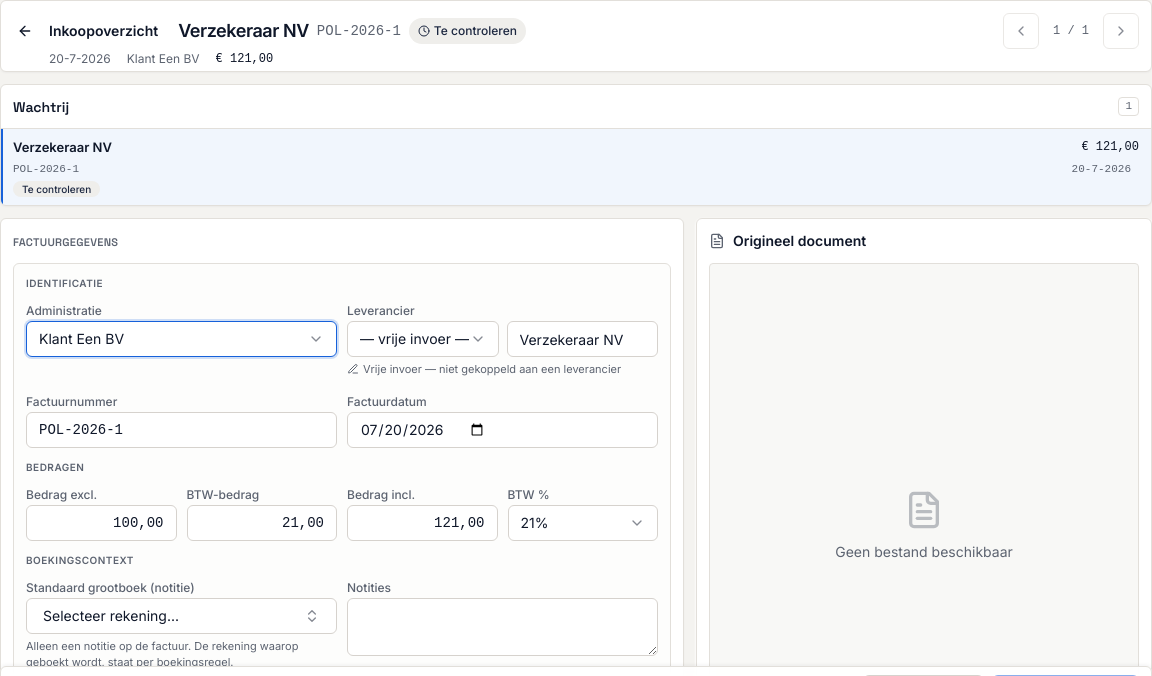
D-02 — administratie wijzigen vraagt een expliciete, bevestigde keuze › een andere administratie kiezen vraagt bevestiging; annuleren laat alles staan
The width and height of the screenshot is (1152, 676).
Later steps or results of the test are not shown.
Expected: the field named "Leveranciersnaam" is shown, [506,321,658,357]
Press ArrowDown in the dropdown named "Administratie", box [26,321,337,357]
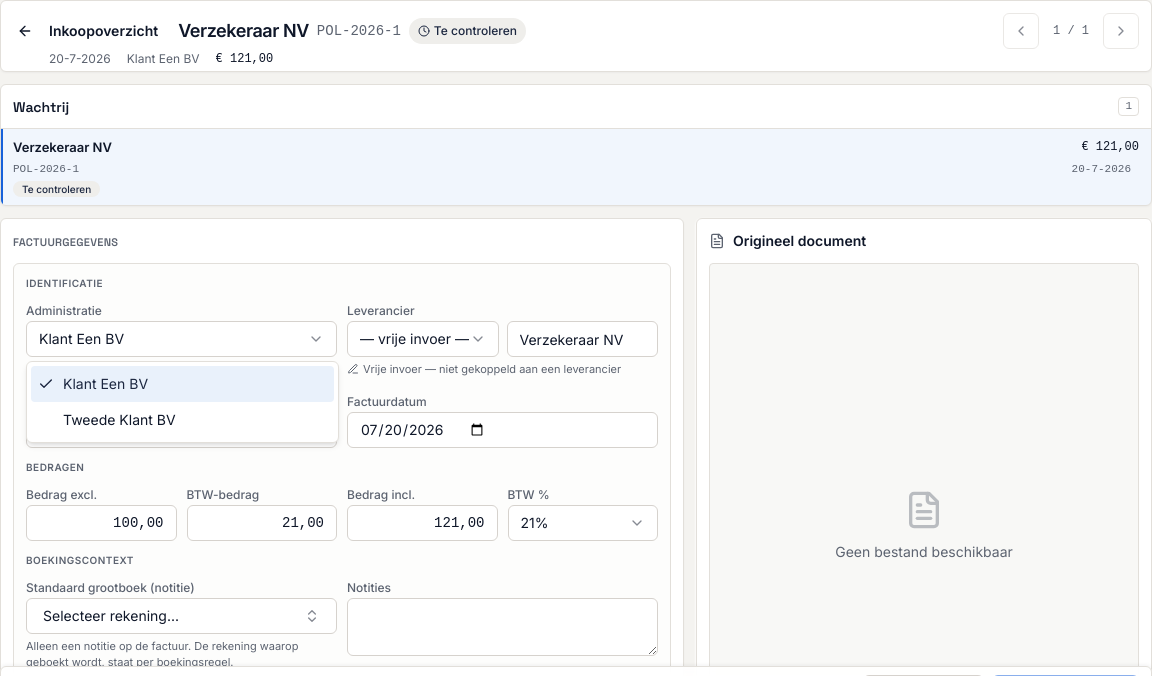
Click the option "Tweede Klant BV".
click(119, 420)  # box [63,411,176,428]
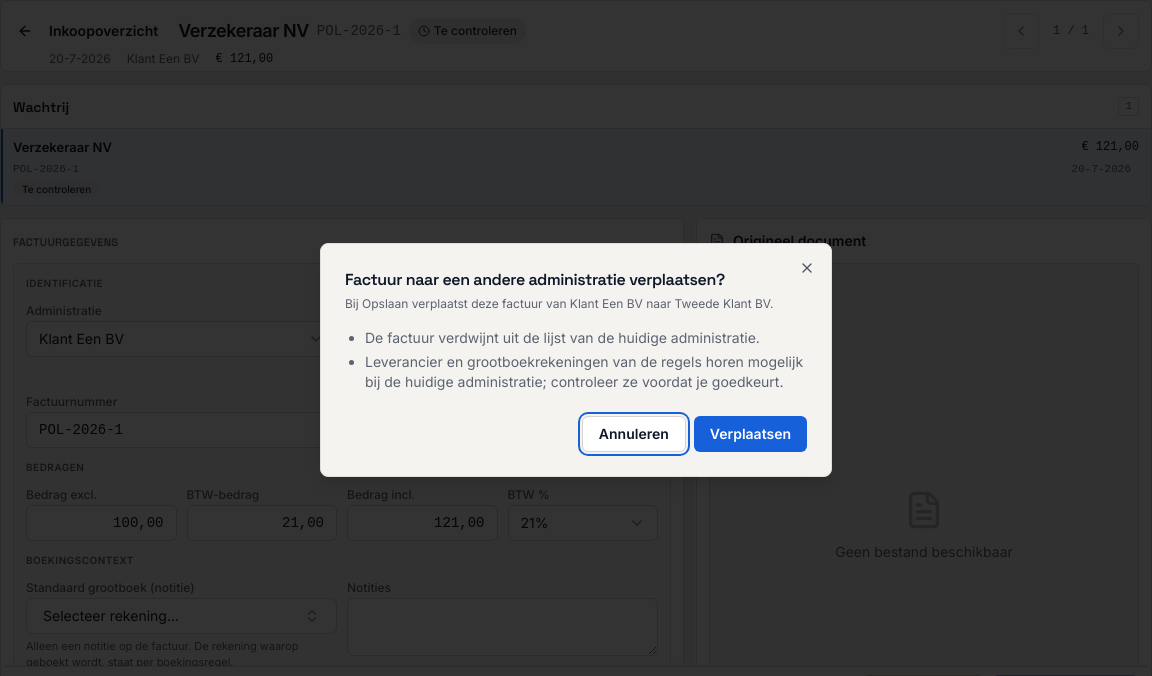
Result: the dialog with test id "client-move-dialog" shows "Klant Een BV" at [345,296,774,311]
Result: the dialog with test id "client-move-dialog" shows "Tweede Klant BV" at [345,296,774,311]
Click the button "Annuleren".
click(634, 434)  # box [582,416,686,452]
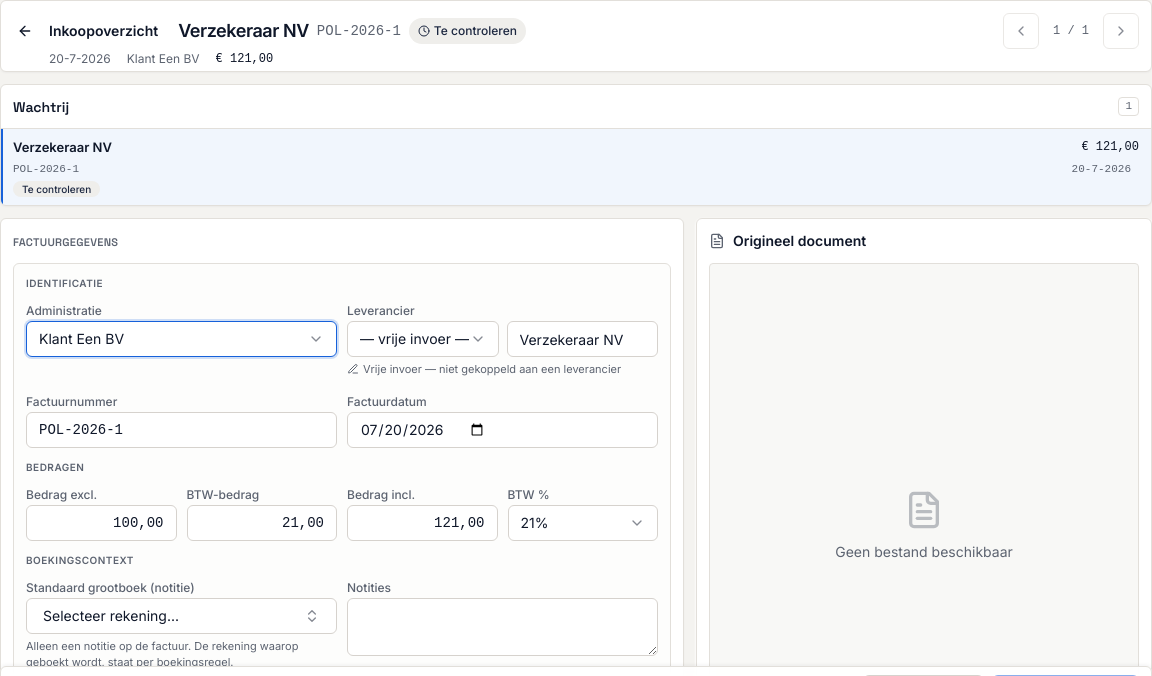
Expected: the dropdown named "Administratie" reads "Klant Een BV", [26,321,337,357]
Result: the dialog with test id "client-move-dialog" is gone
